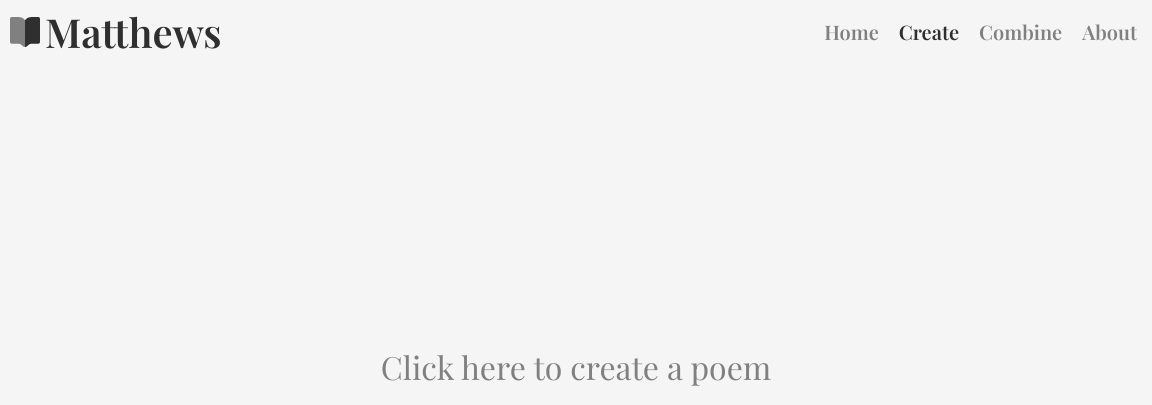
Create component › displays "Click here to create a poem" initially
Click the text with class "number-scroll" at coordinates (577, 367), box [381,345,772,388]
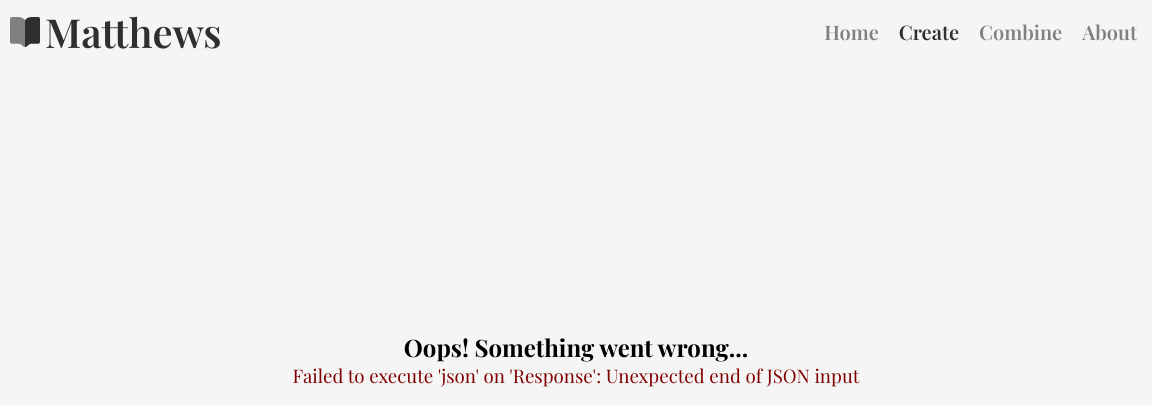
Expected: the link with class "header-title" is shown, [45,5,222,58]
Expected: the heading "Oops! Something went wrong..." is shown, [404,330,748,362]
